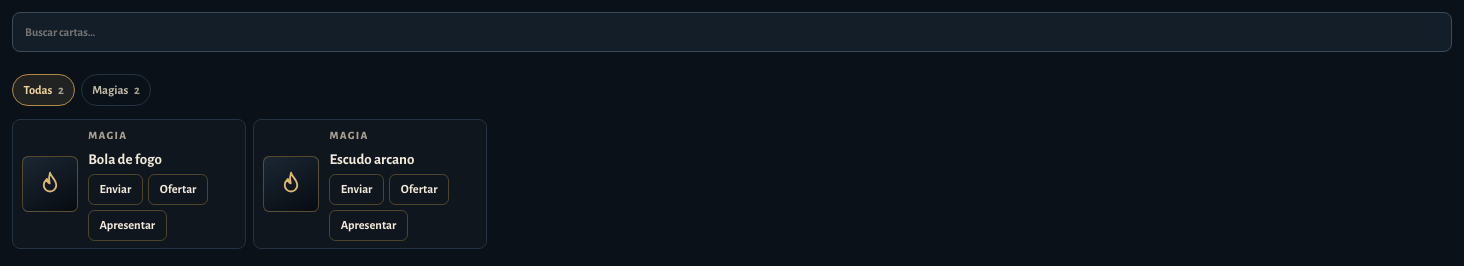
Test: aba Cartas do painel da Sala › o Narrador vê só as publicadas e busca pelo título, sem acento nem caixa
Expected: the text "Bola de fogo" is shown, 88,152 -> 162,167
Expected: the text "Escudo arcano" is shown, 329,152 -> 414,167
Type "ESCUDO ARCANO" into the search field labelled "Buscar cartas".
click(732, 32); type("ESCUDO ARCANO")  # box 12,12 -> 1452,52
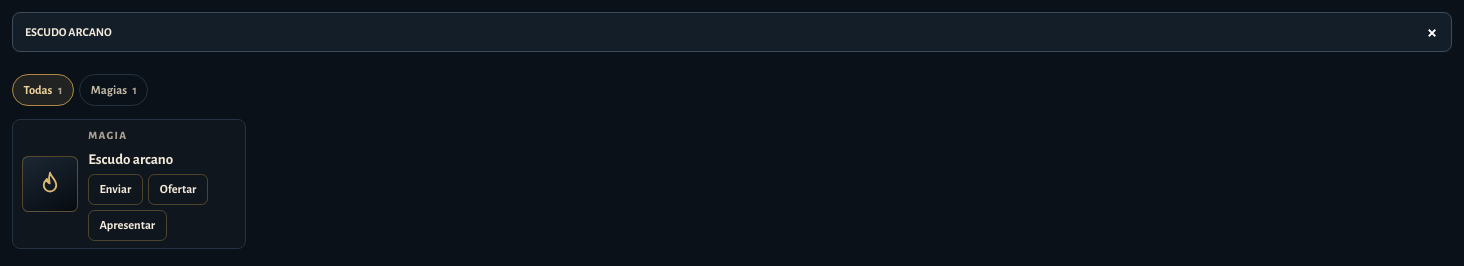
Expected: the text "Escudo arcano" is shown, 88,152 -> 173,167
Now the text "Bola de fogo" is gone
Replace the text in the search field named "Buscar cartas" with "trovão" at (732, 32), box 12,12 -> 1452,52
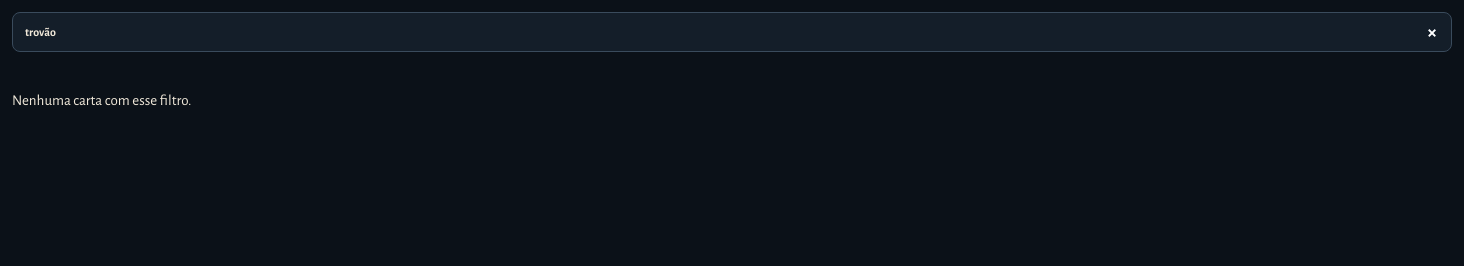
Now the text "Nenhuma carta com esse filtro." is shown, box 12,93 -> 191,108
